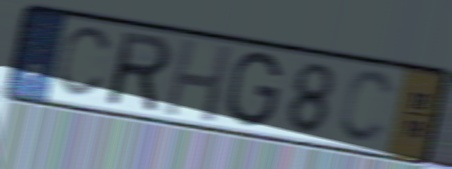8: (286, 61, 339, 136)
C: (335, 67, 398, 147), (53, 25, 117, 101)
G: (224, 49, 284, 129)
H: (160, 35, 236, 127)
R: (106, 28, 175, 116)
